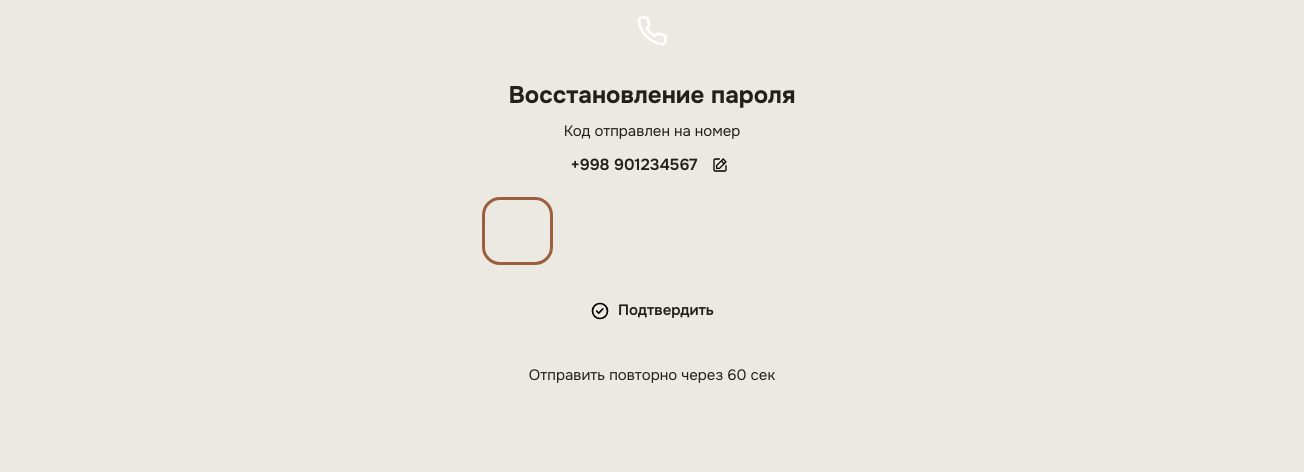
Scenario: an expired code explains how to recover in the selected language
Step 1. Type "54321" into the field named "Цифра кода 1" → x=518, y=231, box left=488, top=203, right=547, bottom=259
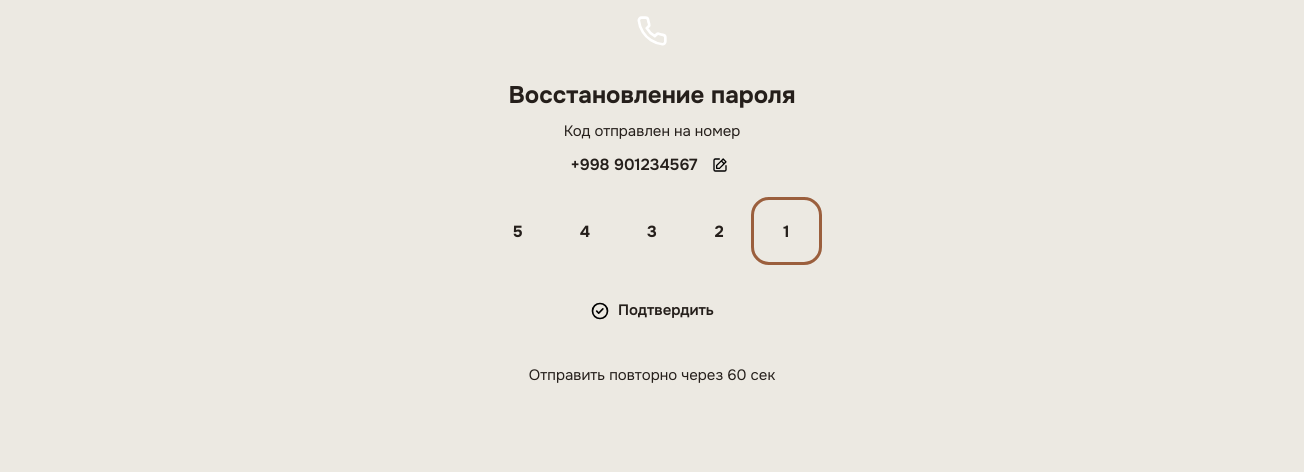
Step 2. Click the button "Подтвердить" → x=652, y=311, box left=12, top=283, right=1292, bottom=339
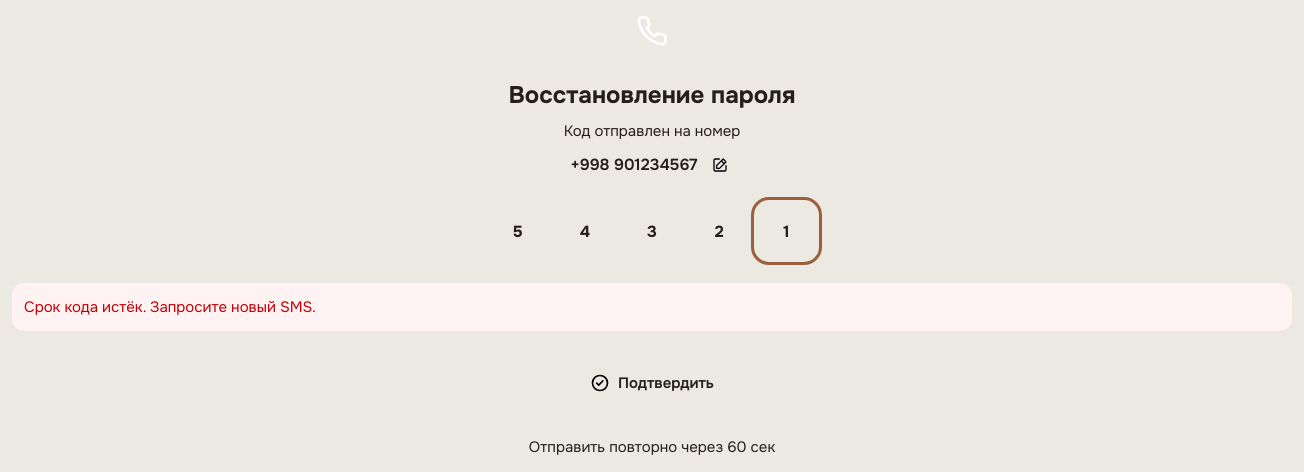
Expected: the message shows "Срок кода истёк", left=24, top=297, right=316, bottom=317
